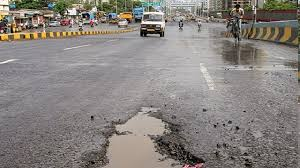pothole: (78, 93, 237, 168)
